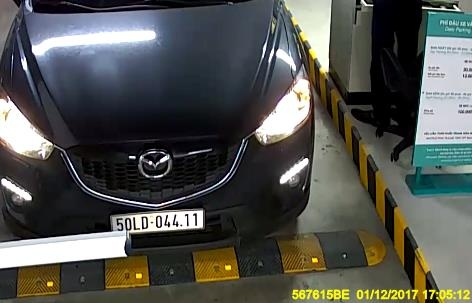plate: (108, 207, 217, 241)
